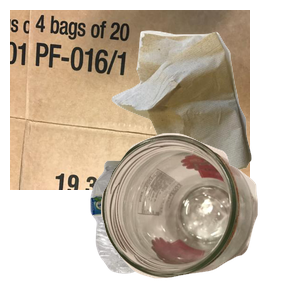cardboard: (10, 10, 250, 190)
glass: (98, 131, 300, 300)
plastic: (88, 158, 229, 300)
trash: (109, 28, 300, 208)
